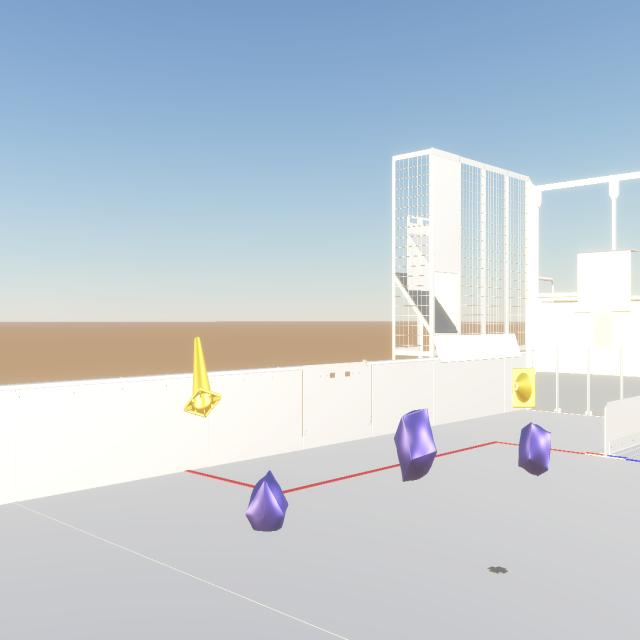frc_cone: (184, 337, 221, 418), (512, 367, 536, 408)
frc_cube: (394, 408, 437, 482), (246, 471, 288, 532), (518, 422, 551, 476)
